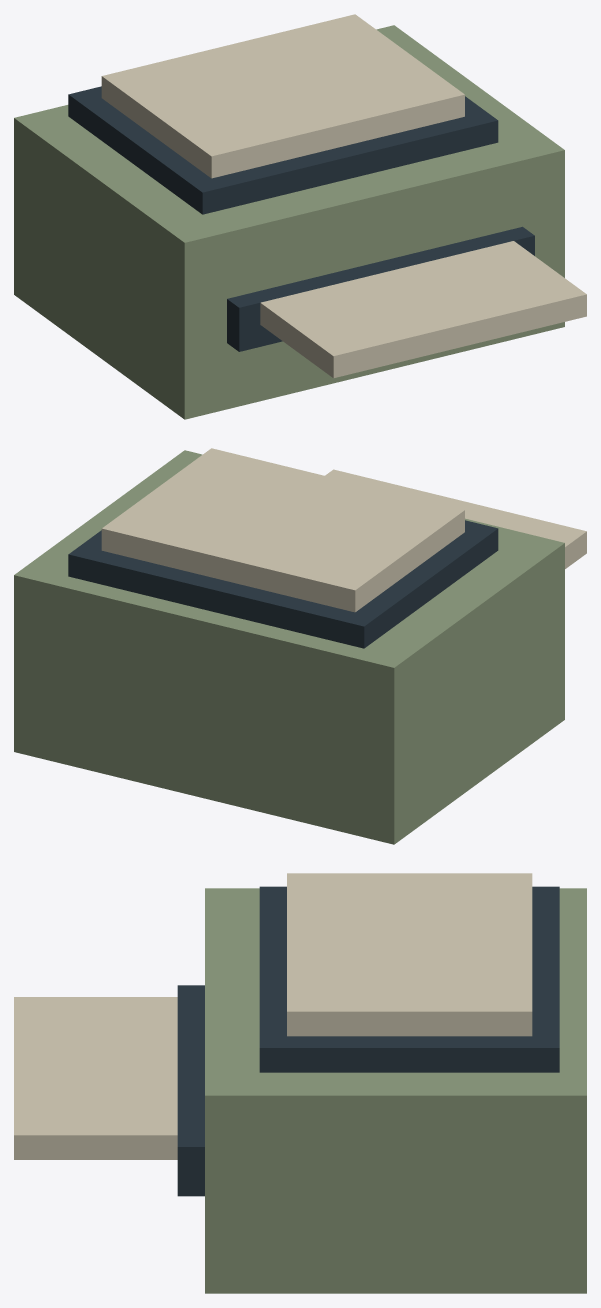
The model's file is productivity-11.glb.
3 views of the same model, one above another, from view 1: azimuth 30°, elevation 25°; view 2: azimuth 150°, elevation 25°; view 3: azimuth 270°, elevation 25° (orthographic). The views are drawn at different scales.
Visible parts, largest first — view 1: Document tray; view 2: Document tray; view 3: Document tray.
Part boxes in pixels (left/top/right/bottom): Document tray: left=14, top=14, right=586, bottom=419; Document tray: left=14, top=448, right=586, bottom=844; Document tray: left=14, top=873, right=586, bottom=1293.
Size of the model in its own units: 1.44 by 0.8 by 1.68.
